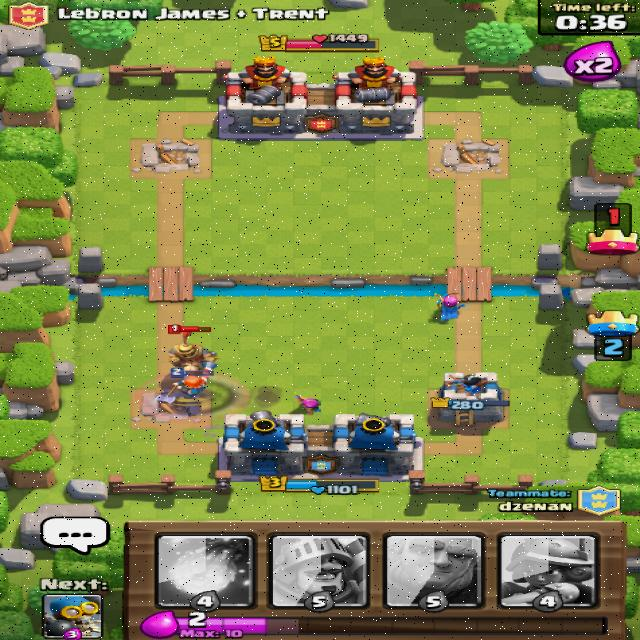Enemy-Prince: (162, 323, 220, 375)
Player-Archer: (432, 292, 466, 320), (292, 391, 322, 414)
Player-Valkyrie: (153, 366, 214, 404)
